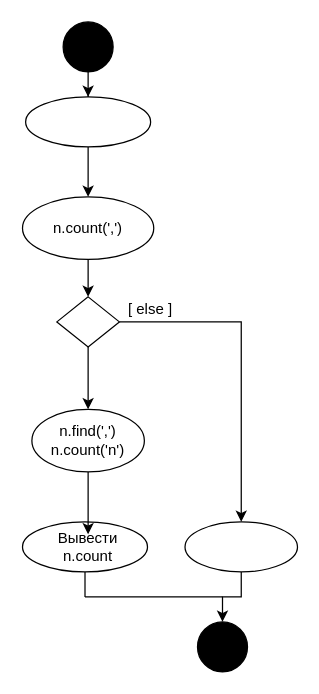
This 319x694 diagram has some shape labels left out. Here are the shapes that lost their labels. From the top down, the centre of each, then its label:
(x=87, y=121): Ввести строку n
(x=241, y=546): Вывести "Букв н нет "
